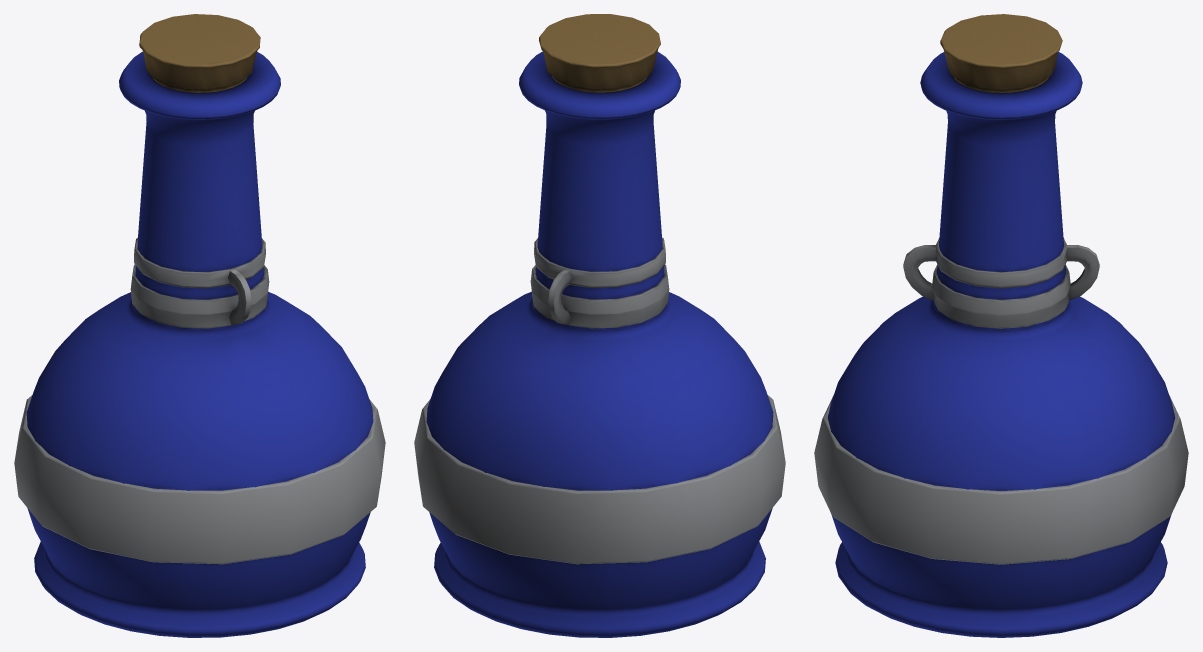
The model's file is Alchemy Bottle 1.fbx.
3 renders of one model, left to right at view 1: azimuth 30°, elevation 25°; view 2: azimuth 150°, elevation 25°; view 3: azimuth 270°, elevation 25°, orthographic.
Visible parts, largest first — view 1: Alchemy_Bottle_1; view 2: Alchemy_Bottle_1; view 3: Alchemy_Bottle_1.
Part boxes in pixels (x1=…): Alchemy_Bottle_1: x1=14, y1=14, x2=385, y2=637; Alchemy_Bottle_1: x1=414, y1=14, x2=785, y2=637; Alchemy_Bottle_1: x1=814, y1=14, x2=1188, y2=637.
Bounding box in the file's own units: 18.83 × 29.54 × 18.83.
1 material, 1 textured.
